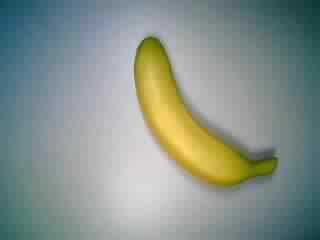banana: (128, 33, 280, 195)
